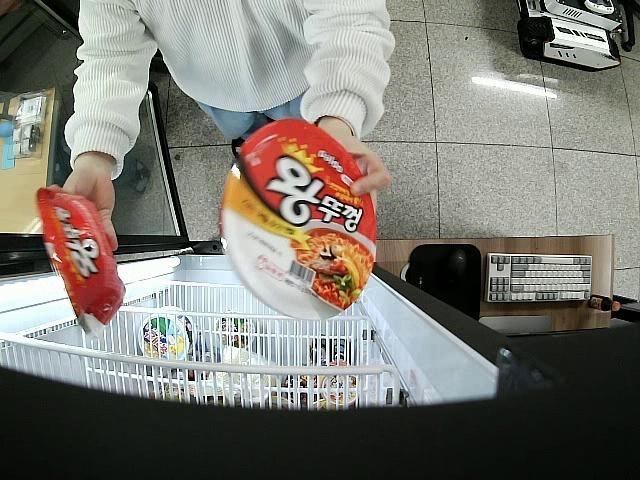10_wangTtukkeong: (219, 118, 376, 319), (35, 186, 126, 339)
